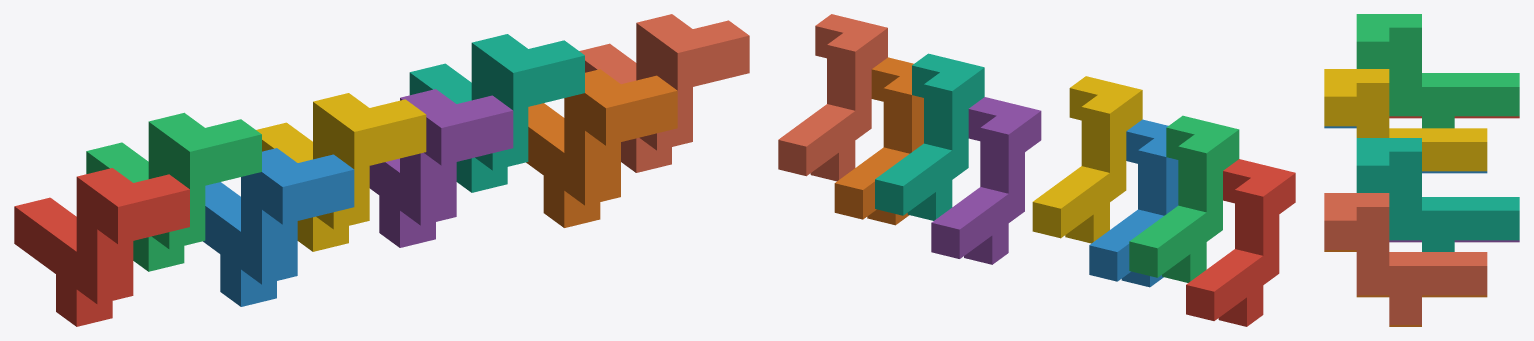
The model's file is tiling.obj.
3 views of the same model, side by side, from view 1: azimuth 30°, elevation 25°; view 2: azimuth 150°, elevation 25°; view 3: azimuth 270°, elevation 25° (orthographic). The views are drawn at different scales.
Visible parts, largest first — view 1: copy_1_domain_1, copy_1_domain_6, copy_1_domain_2, copy_1_domain_5, copy_1_domain_7, copy_1_domain_3, copy_1_domain_4, copy_1_domain_8; view 2: copy_1_domain_4, copy_1_domain_5, copy_1_domain_1, copy_1_domain_3, copy_1_domain_7, copy_1_domain_8, copy_1_domain_2, copy_1_domain_6; view 3: copy_1_domain_8, copy_1_domain_3, copy_1_domain_7, copy_1_domain_4, copy_1_domain_6, copy_1_domain_1, copy_1_domain_2, copy_1_domain_5.
Part boxes in pixels (bbox=[...]): copy_1_domain_1: bbox=[14, 168, 189, 326]; copy_1_domain_6: bbox=[526, 69, 677, 227]; copy_1_domain_2: bbox=[203, 148, 354, 306]; copy_1_domain_5: bbox=[369, 89, 513, 247]; copy_1_domain_7: bbox=[409, 34, 584, 192]; copy_1_domain_3: bbox=[86, 112, 261, 271]; copy_1_domain_4: bbox=[256, 93, 426, 251]; copy_1_domain_8: bbox=[579, 14, 749, 172]; copy_1_domain_4: bbox=[1032, 76, 1142, 243]; copy_1_domain_5: bbox=[931, 97, 1041, 264]; copy_1_domain_1: bbox=[1186, 159, 1295, 326]; copy_1_domain_3: bbox=[1129, 115, 1239, 282]; copy_1_domain_7: bbox=[875, 53, 984, 220]; copy_1_domain_8: bbox=[778, 14, 887, 181]; copy_1_domain_2: bbox=[1089, 119, 1178, 287]; copy_1_domain_6: bbox=[834, 57, 923, 225]; copy_1_domain_8: bbox=[1324, 193, 1487, 324]; copy_1_domain_3: bbox=[1356, 14, 1519, 128]; copy_1_domain_7: bbox=[1356, 138, 1519, 251]; copy_1_domain_4: bbox=[1324, 69, 1487, 171]; copy_1_domain_6: bbox=[1324, 250, 1487, 326]; copy_1_domain_1: bbox=[1389, 116, 1519, 118]; copy_1_domain_2: bbox=[1324, 126, 1487, 173]; copy_1_domain_5: bbox=[1389, 240, 1519, 242].
Size of the model in its own units: 17 by 5 by 6.
